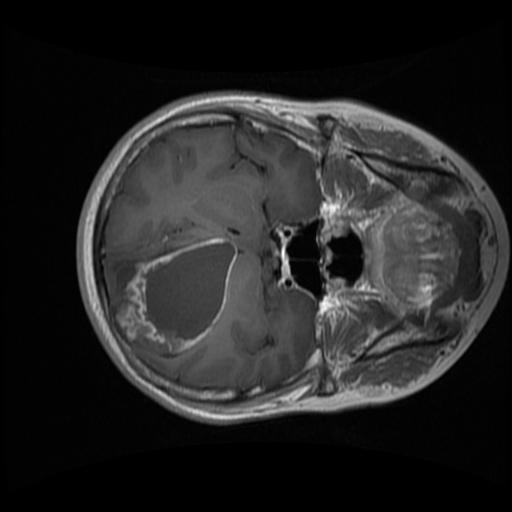glioma: (113, 235, 239, 357)
